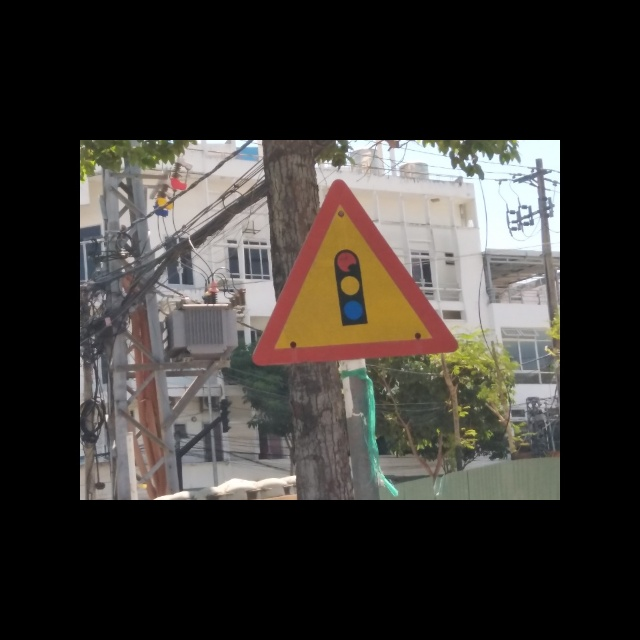Giao nhau có tín hiệu đèn: (237, 178, 459, 365)
